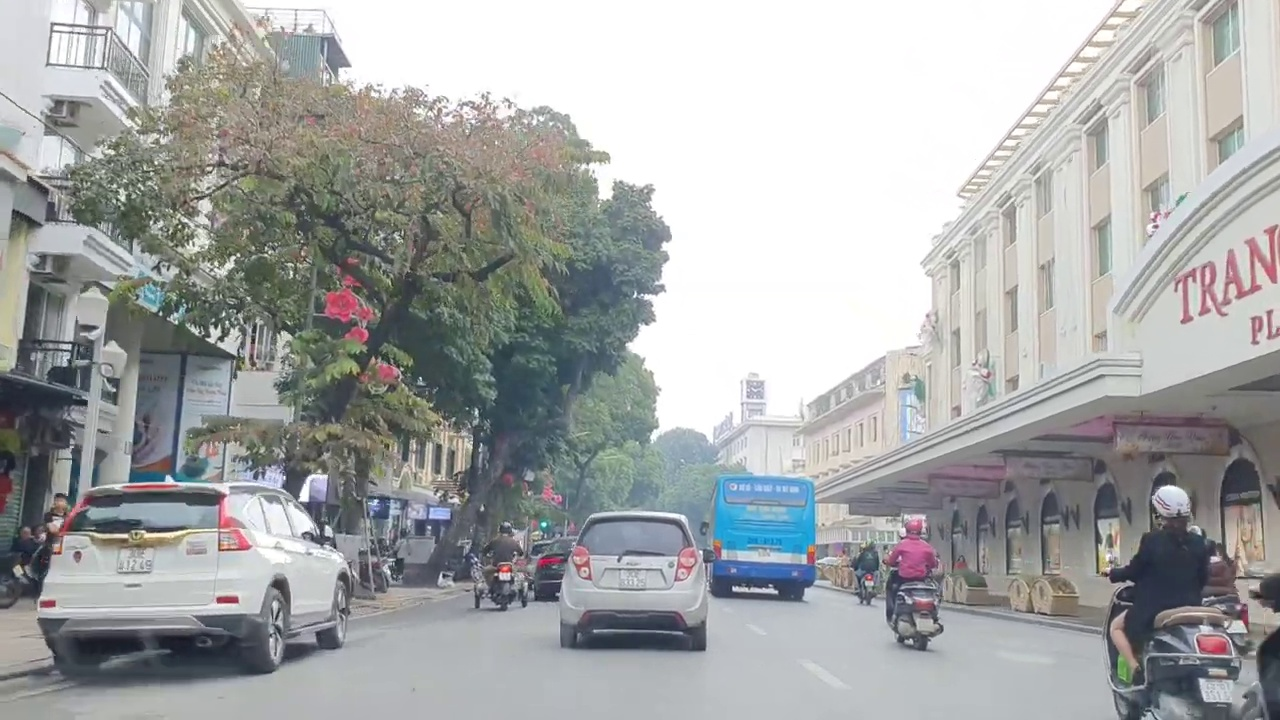person: (114, 543, 157, 574), (616, 566, 648, 590), (916, 616, 934, 634), (497, 569, 514, 579)
